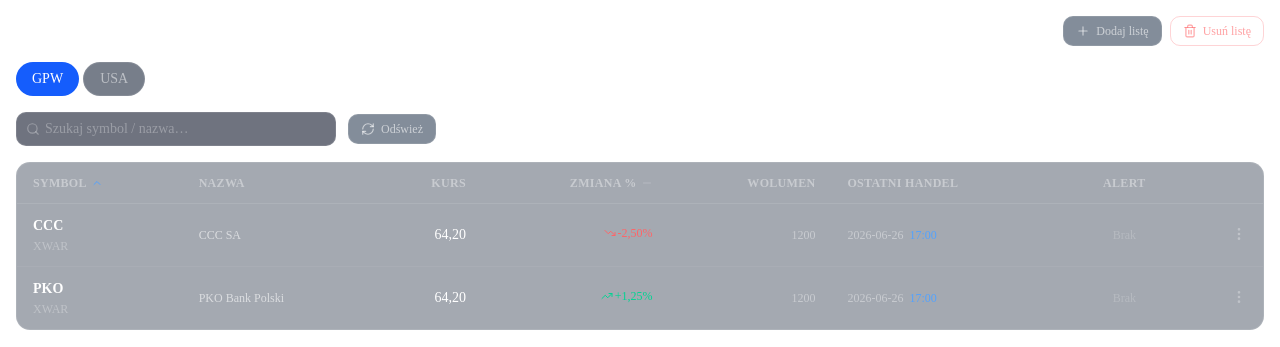
Test: FavoritesPage › loads another favorite list through the local API and shows connection errors
Click the button "USA": (114, 79) [83,62,145,96]
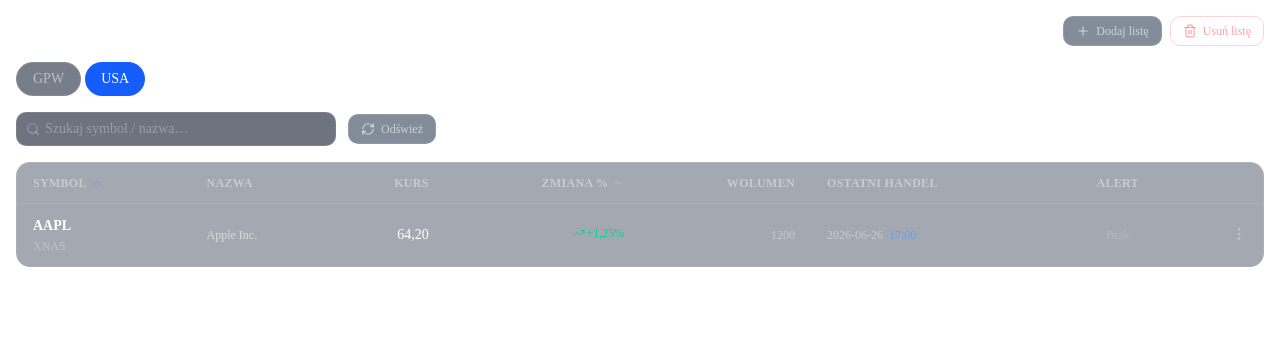
Now the text "AAPL" is shown, box [33,218,71,233]
Click the button "GPW": (49, 79) [16,62,81,96]
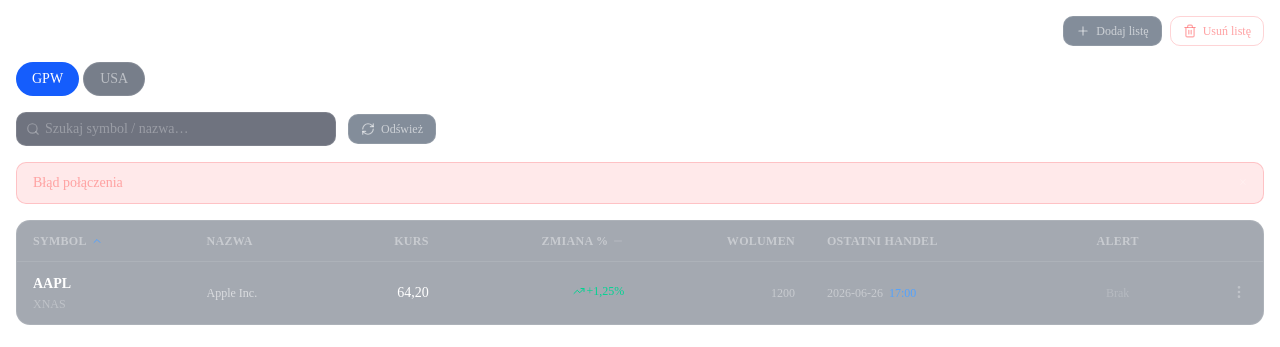
Now the text "Błąd połączenia" is shown, box [33,175,123,190]
